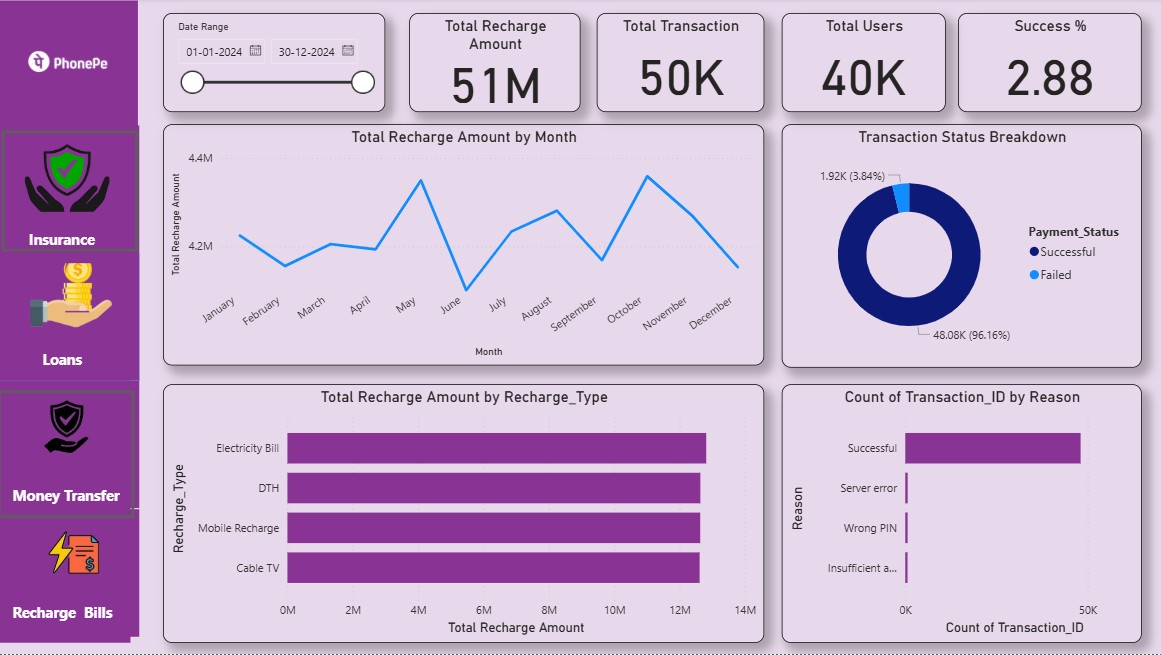

The page's visual inventory and layout, read from the dashboard file:
{"tool":"powerbi","page":{"name":"Recharge & Bills","canvas":[1280,720],"ordinal":4},"visuals":[{"type":"shape","box":[-0.4,2.6,153.7,144.1],"z":0,"group":"g2"},{"type":"slicer","fields":{"Values":["Recharge_Bills.Date"]},"box":[181.1,16.5,244.3,108.4],"z":0},{"type":"shape","box":[0,560.9,155.1,140.2],"z":0,"group":"g3"},{"type":"card","title":"Total Recharge Amount","fields":{"Values":["Recharge_Bills.Total Recharge Amount"]},"box":[451.5,16.5,188,108.4],"z":1000},{"type":"shape","box":[1.4,154.7,144.1,138.3],"z":1000,"group":"g2"},{"type":"image","box":[32.9,561.2,101.5,97.4],"z":1000,"group":"g3"},{"type":"card","title":"Total Transaction","fields":{"Values":["Recharge_Bills.Total Transactions"]},"box":[657.3,16.5,183.9,108.4],"z":2000},{"type":"shape","box":[1.4,293.1,144.1,138.3],"z":2000,"group":"g2"},{"type":"textbox","box":[11,658.6,130.4,42.5],"z":2000,"group":"g3"},{"type":"card","title":"Total Users","fields":{"Values":["Recharge_Bills.Total users1"]},"box":[860.4,16.5,179.8,108.4],"z":3000},{"type":"group","id":"g1","title":"Group 4","box":[0,140.2,155.1,421],"z":3000,"group":"g3"},{"type":"shape","box":[1.4,431.4,144.1,138.3],"z":3000,"group":"g2"},{"type":"card","title":"Success %","fields":{"Values":["Recharge_Bills.Success % Rate"]},"box":[1053.9,16.5,201.7,108.4],"z":4000},{"type":"actionButton","box":[4.1,145.4,149.6,133.1],"z":4000,"group":"g3"},{"type":"shape","box":[1.4,569.7,144.1,138.3],"z":4000,"group":"g2"},{"type":"actionButton","box":[1.4,139.2,149.6,133.1],"z":5000},{"type":"image","box":[23.3,287.5,101.5,105.7],"z":5000,"group":"g2"},{"type":"lineChart","fields":{"Y":["Recharge_Bills.Total Recharge Amount"],"Category":["Recharge_Bills.Date.Variation.Date Hierarchy.Month"]},"box":[181.1,138.6,660,264.8],"z":6000},{"type":"donutChart","title":" Transaction Status Breakdown","fields":{"Category":["Recharge_Bills.Payment_Status"],"Y":["CountNonNull(Recharge_Bills.Transaction_ID)"]},"box":[860.4,138.6,395.2,267.6],"z":7000},{"type":"clusteredBarChart","fields":{"Category":["Recharge_Bills.Recharge_Type"],"Y":["Recharge_Bills.Total Recharge Amount"]},"box":[181.1,424,660,284],"z":8000},{"type":"shape","box":[0,140.2,155.1,140.2],"z":9000,"group":"g4"},{"type":"clusteredBarChart","fields":{"Category":["Recharge_Bills.Reason"],"Y":["CountNonNull(Recharge_Bills.Transaction_ID)"]},"box":[860,424,395,284],"z":9000},{"type":"group","id":"g2","title":"Group 1","box":[-0.4,2.6,153.7,705.4],"z":10000},{"type":"shape","box":[0,280.4,155.1,140.2],"z":10000,"group":"g5"},{"type":"image","box":[4.1,0,144.1,138.6],"z":11000},{"type":"shape","box":[0,420.7,155.1,140.2],"z":11000,"group":"g1"},{"type":"image","box":[17.8,155.1,109.8,100.2],"z":12000},{"type":"image","box":[24.7,142.7,102.9,109.8],"z":13000,"group":"g4"},{"type":"image","box":[20.6,432.2,107,100.2],"z":13000},{"type":"image","box":[24.7,421.2,101.5,98.8],"z":14000,"group":"g1"},{"type":"image","box":[16.5,569.5,112.5,93.3],"z":14000},{"type":"textbox","box":[27.4,259.3,91.9,34.3],"z":15000},{"type":"image","box":[26.1,279.9,108.4,100.2],"z":15000,"group":"g5"},{"type":"textbox","box":[41.2,393.8,65.9,32.9],"z":16000},{"type":"textbox","box":[13.7,532.4,122.1,34.3],"z":17000},{"type":"textbox","box":[43.9,380.1,65.9,31.6],"z":18000,"group":"g5"},{"type":"textbox","box":[1.4,669.6,141.3,38.4],"z":18000},{"type":"group","id":"g3","title":"Group 5","box":[0,140.2,155.1,561],"z":19000},{"type":"textbox","box":[28.8,248.3,97.4,31.6],"z":19000,"group":"g4"},{"type":"actionButton","box":[0,430.9,149.6,140],"z":20000},{"type":"textbox","box":[11,529.6,140,31.6],"z":20000,"group":"g1"},{"type":"group","id":"g4","title":"Group 2","box":[0,140.2,155.1,140.2],"z":21002,"group":"g5"},{"type":"group","id":"g5","title":"Group 3","box":[0,140.2,155.1,280.5],"z":21003,"group":"g1"}]}

Visuals, with their boxes on the page's 1280x720 design canvas (x1, y1, x2, y2). These are canvas units, not pixel positions in the 1161x655 screenshot, which may show the page scaled, cropped or inside an application window:
shape: [0,3,153,147]
slicer - Recharge_Bills.Date: [181,16,425,125]
shape: [0,561,155,701]
"Total Recharge Amount" card: [452,16,640,125]
shape: [1,155,146,293]
image: [33,561,134,659]
"Total Transaction" card: [657,16,841,125]
shape: [1,293,146,431]
textbox: [11,659,141,701]
"Total Users" card: [860,16,1040,125]
"Group 4" group: [0,140,155,561]
shape: [1,431,146,570]
"Success %" card: [1054,16,1256,125]
actionButton: [4,145,154,278]
shape: [1,570,146,708]
actionButton: [1,139,151,272]
image: [23,288,125,393]
lineChart - Recharge_Bills.Total Recharge Amount x Recharge_Bills.Date.Variation.Date Hierarchy.Month: [181,139,841,403]
" Transaction Status Breakdown" donutChart: [860,139,1256,406]
clusteredBarChart - Recharge_Bills.Recharge_Type x Recharge_Bills.Total Recharge Amount: [181,424,841,708]
shape: [0,140,155,280]
clusteredBarChart - Recharge_Bills.Reason x CountNonNull(Recharge_Bills.Transaction_ID): [860,424,1255,708]
"Group 1" group: [0,3,153,708]
shape: [0,280,155,421]
image: [4,0,148,139]
shape: [0,421,155,561]
image: [18,155,128,255]
image: [25,143,128,252]
image: [21,432,128,532]
image: [25,421,126,520]
image: [16,570,129,663]
textbox: [27,259,119,294]
image: [26,280,134,380]
textbox: [41,394,107,427]
textbox: [14,532,136,567]
textbox: [44,380,110,412]
textbox: [1,670,143,708]
"Group 5" group: [0,140,155,701]
textbox: [29,248,126,280]
actionButton: [0,431,150,571]
textbox: [11,530,151,561]
"Group 2" group: [0,140,155,280]
"Group 3" group: [0,140,155,421]
